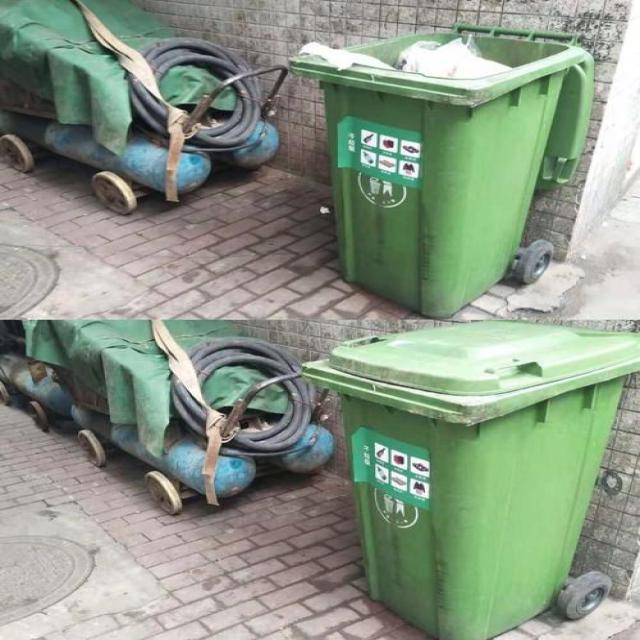garbage_bin: (302, 323, 639, 639)
overflow: (282, 22, 592, 317)
